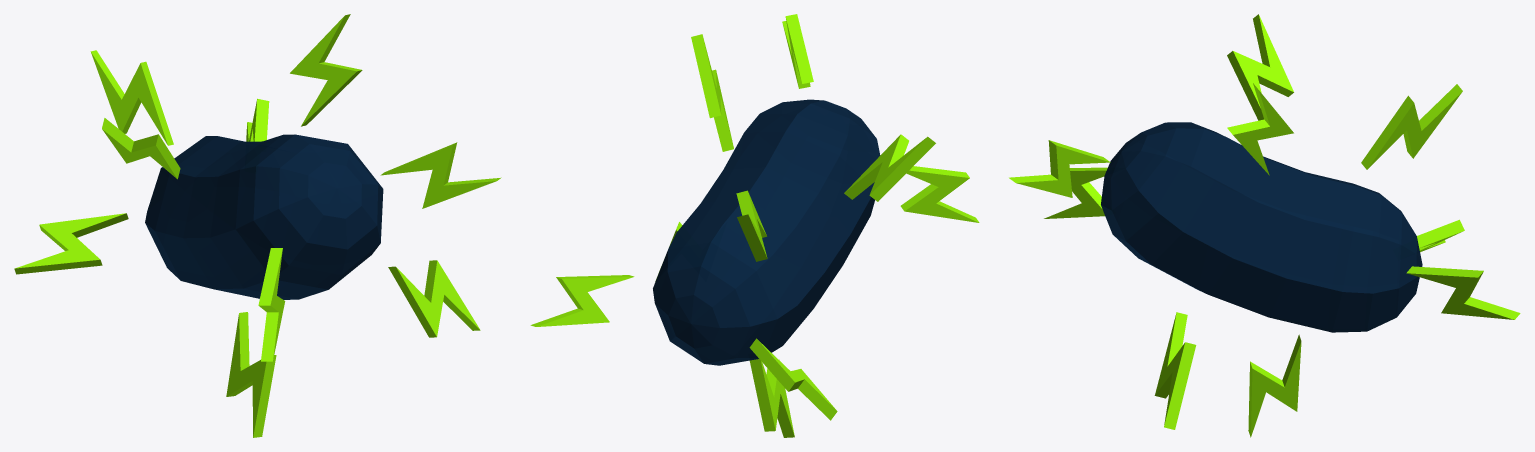
The model's file is Bacteria_Electricity.FBX.
3 renders of one model, left to right at view 1: azimuth 30°, elevation 25°; view 2: azimuth 150°, elevation 25°; view 3: azimuth 270°, elevation 25°, orthographic. The views are drawn at different scales.
Parts seen in each view (by area): view 1: Capsule001, Box007, Box010, Box006, Box009, Box002, Box005, Box004, Box003, Box008; view 2: Capsule001, Box003, Box004, Box008, Box009, Box002, Box010, Box005, Box007; view 3: Capsule001, Box007, Box003, Box006, Box008, Box009, Box005, Box002, Box004, Box010.
Part boxes in pixels (bbox=[...]): Capsule001: bbox=[145, 134, 383, 299]; Box007: bbox=[90, 50, 173, 145]; Box010: bbox=[14, 213, 128, 274]; Box006: bbox=[388, 260, 480, 337]; Box009: bbox=[226, 312, 276, 437]; Box002: bbox=[290, 14, 362, 126]; Box005: bbox=[380, 142, 501, 208]; Box004: bbox=[258, 248, 285, 361]; Box003: bbox=[102, 118, 180, 179]; Box008: bbox=[246, 98, 269, 141]; Capsule001: bbox=[653, 99, 880, 365]; Box003: bbox=[844, 134, 935, 201]; Box004: bbox=[900, 166, 979, 222]; Box008: bbox=[530, 275, 634, 326]; Box009: bbox=[749, 359, 794, 437]; Box002: bbox=[691, 34, 733, 151]; Box010: bbox=[749, 338, 837, 420]; Box005: bbox=[782, 14, 813, 88]; Box007: bbox=[736, 190, 767, 261]; Capsule001: bbox=[1101, 122, 1422, 332]; Box007: bbox=[1361, 84, 1462, 169]; Box003: bbox=[1227, 14, 1293, 120]; Box006: bbox=[1154, 312, 1196, 429]; Box008: bbox=[1406, 266, 1520, 319]; Box009: bbox=[1248, 334, 1301, 437]; Box005: bbox=[1009, 140, 1110, 197]; Box002: bbox=[1227, 83, 1293, 175]; Box004: bbox=[1044, 167, 1107, 218]; Box010: bbox=[1417, 219, 1464, 252].
Bounding box in the file's own units: 285 × 383 × 327.
